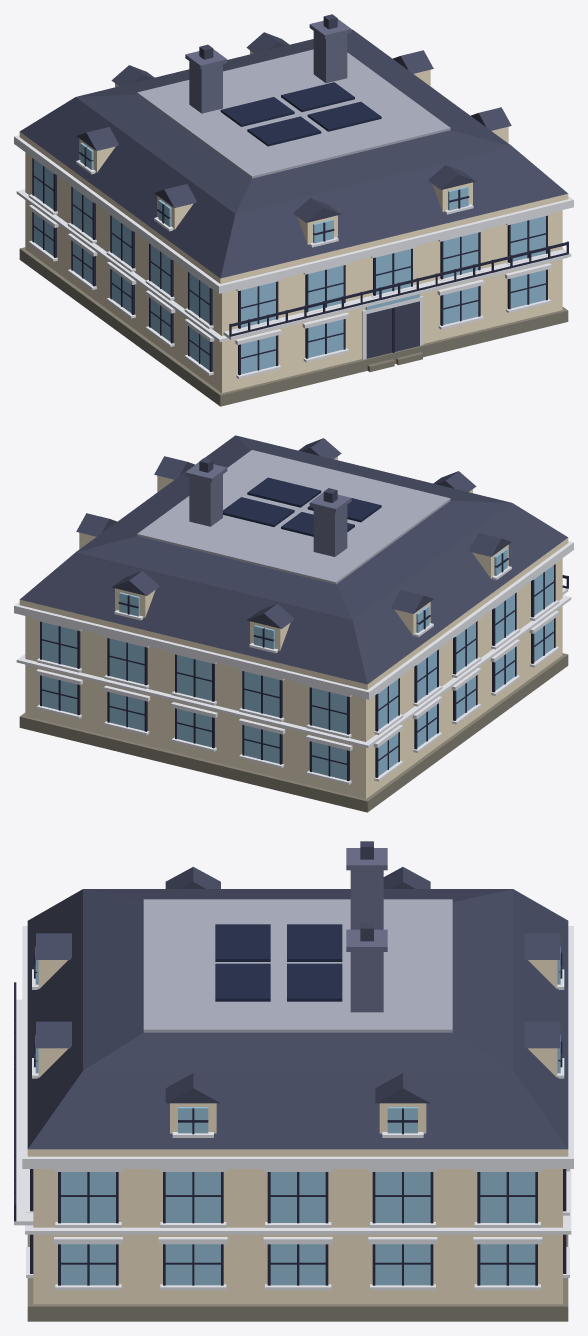
Rendered from house-2x2-2f-haussmann-a-solar.glb.
The picture shows the model from 3 angles, top to bottom: view 1: azimuth 30°, elevation 25°; view 2: azimuth 150°, elevation 25°; view 3: azimuth 270°, elevation 25°; orthographic projection. The views are drawn at different scales.
Visible parts, largest first — view 1: house-2x2-2f-haussmann-a-solar; view 2: house-2x2-2f-haussmann-a-solar; view 3: house-2x2-2f-haussmann-a-solar.
Boxes of the visible parts, x1,y1,x2,y2 form: house-2x2-2f-haussmann-a-solar: (14, 14, 573, 406); house-2x2-2f-haussmann-a-solar: (14, 435, 573, 812); house-2x2-2f-haussmann-a-solar: (14, 841, 573, 1321).
Size of the model in its own units: 2 by 1.29 by 2.03.
Materials: 1 (1 with a texture image).
